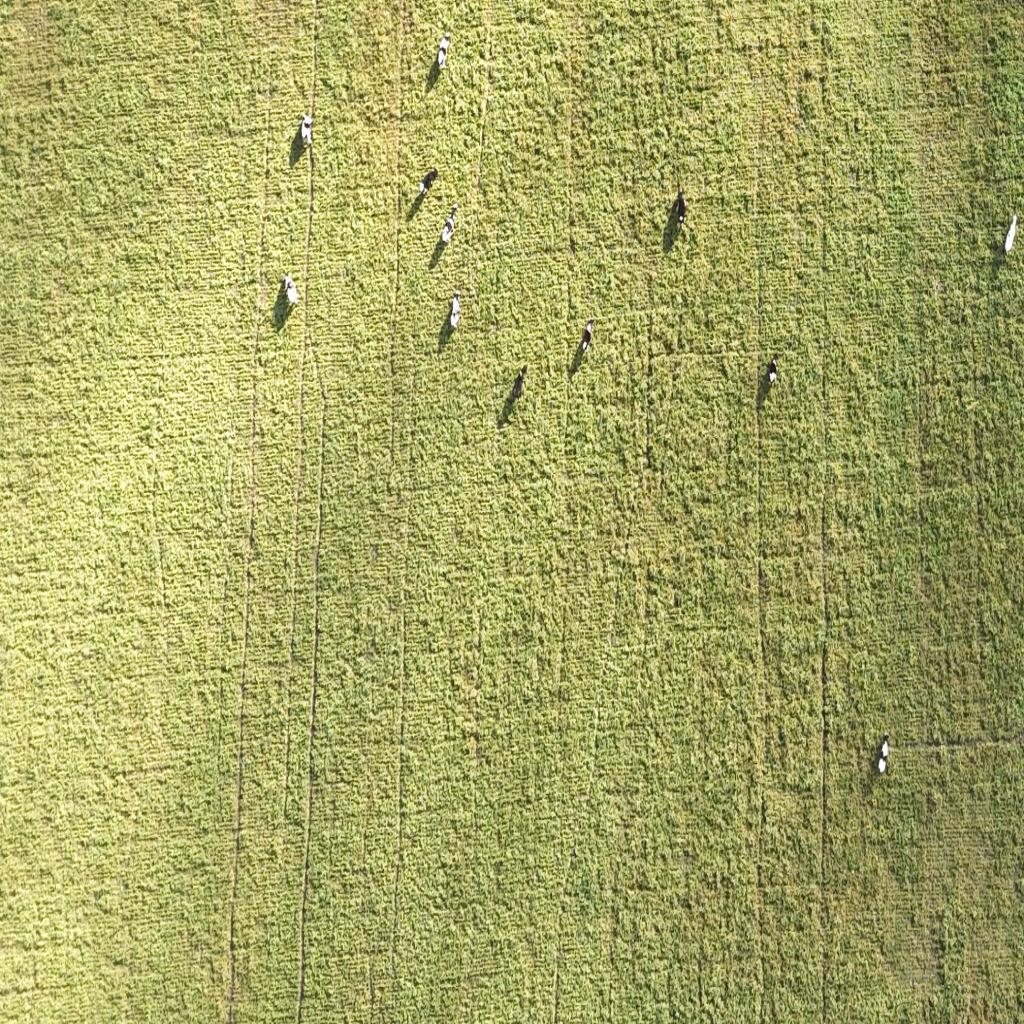cow: (442, 205, 458, 244), (1004, 214, 1018, 255), (283, 270, 299, 305), (419, 166, 438, 194), (437, 32, 451, 70), (878, 733, 891, 771), (512, 366, 526, 400), (450, 291, 462, 329), (301, 111, 314, 145), (582, 318, 594, 354), (768, 354, 780, 386), (676, 190, 686, 226), (419, 182, 426, 194), (772, 354, 778, 367)
